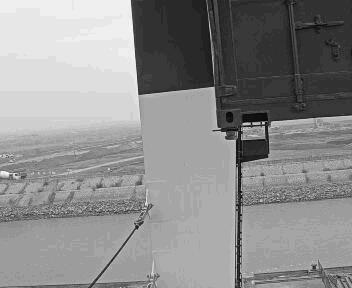twist_lock_1: (163, 162, 226, 206)
